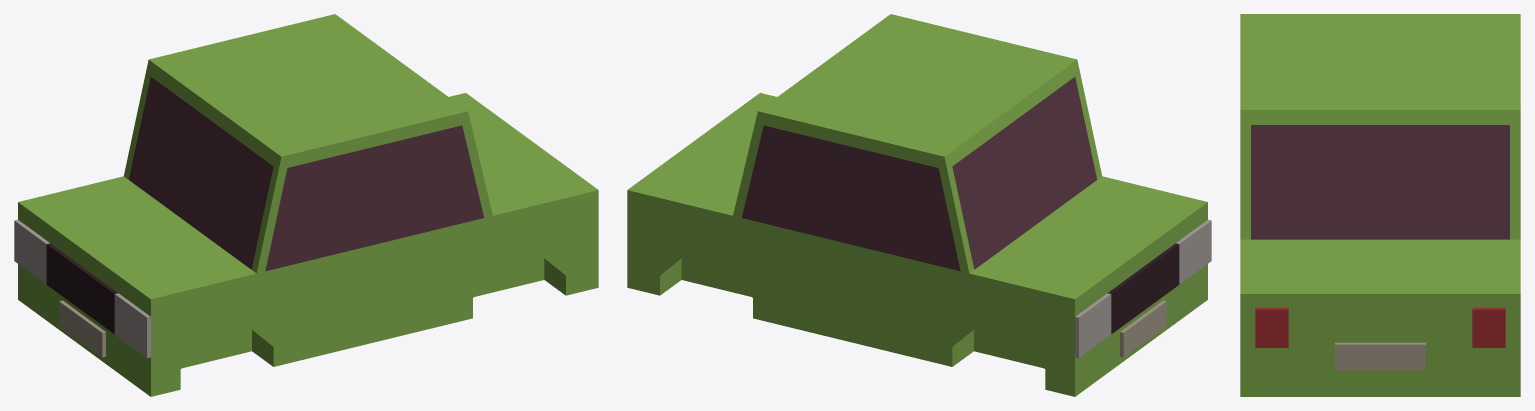
Rendered from Sedan_Green.fbx.
3 renders of one model, left to right at view 1: azimuth 30°, elevation 25°; view 2: azimuth 150°, elevation 25°; view 3: azimuth 270°, elevation 25°, orthographic. The views are drawn at different scales.
Visible parts, largest first — view 1: Sedan_Green, Sedan_Lights; view 2: Sedan_Green, Sedan_Lights; view 3: Sedan_Green, Sedan_Lights.
Boxes of the visible parts, box(x1,y1,x2,y2) form: Sedan_Green: box(18, 14, 598, 396); Sedan_Lights: box(14, 219, 150, 358); Sedan_Green: box(627, 14, 1207, 396); Sedan_Lights: box(1075, 219, 1211, 358); Sedan_Green: box(1240, 14, 1520, 396); Sedan_Lights: box(1255, 307, 1505, 347).
Bounding box in the file's own units: 3.66 × 1.6 × 1.85.
